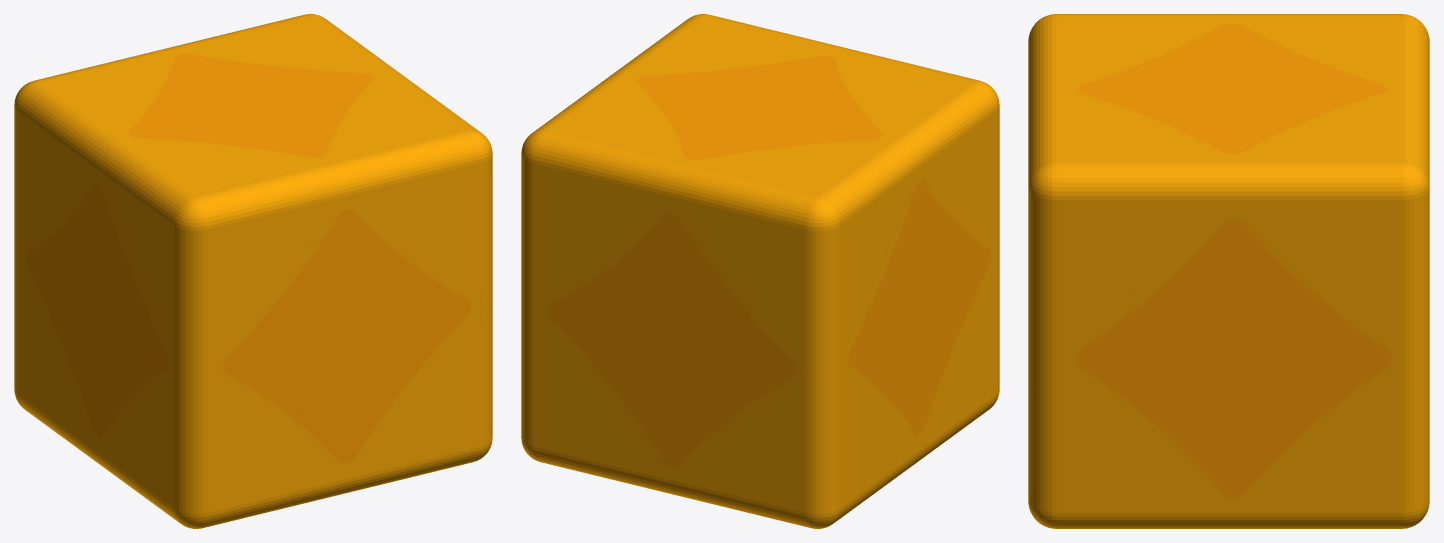
The model's file is CubeGround.fbx.
3 views of the same model, side by side, from view 1: azimuth 30°, elevation 25°; view 2: azimuth 150°, elevation 25°; view 3: azimuth 270°, elevation 25° (orthographic). The views are drawn at different scales.
Parts seen in each view (by area): view 1: Cube; view 2: Cube; view 3: Cube.
Boxes of the visible parts, x1=… form: Cube: x1=14, y1=14, x2=492, y2=528; Cube: x1=521, y1=14, x2=999, y2=528; Cube: x1=1028, y1=14, x2=1429, y2=528.
Bounding box in the file's own units: 400 × 400 × 400.
